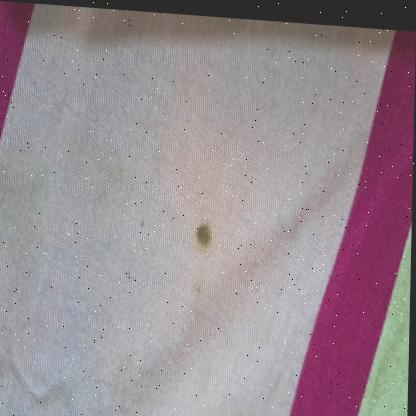spot: (193, 210, 214, 251), (191, 274, 210, 301), (126, 251, 140, 282), (137, 206, 149, 228)
